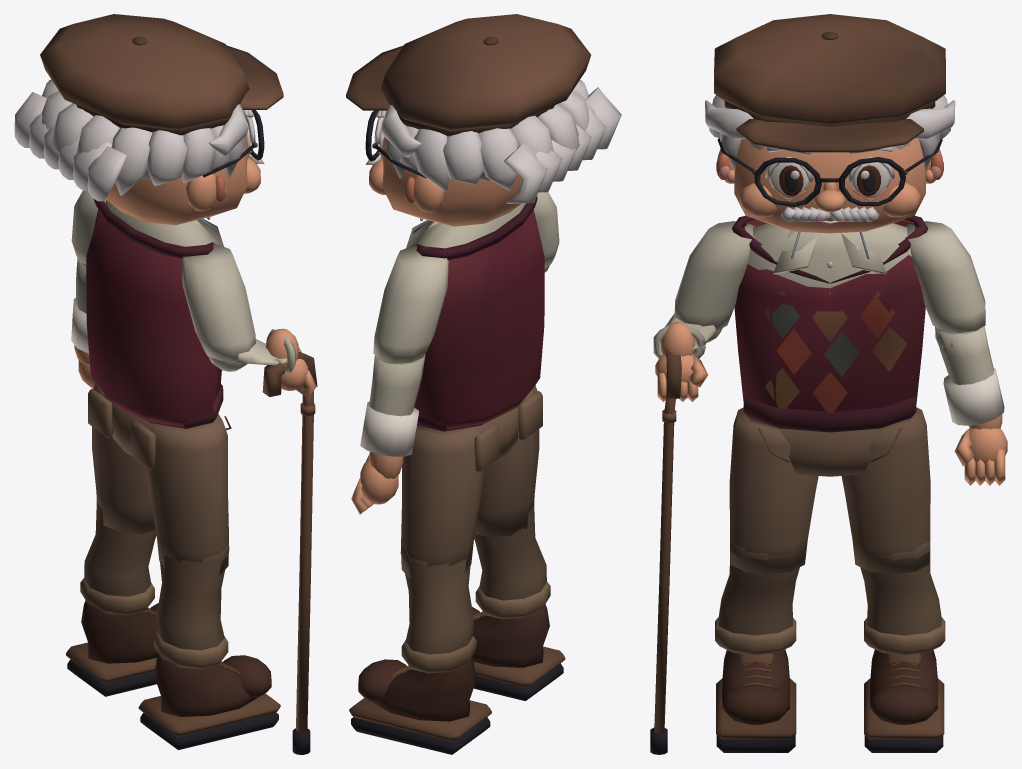
The model's file is npc.civilian-elderly.aftermath.glb.
3 views of the same model, side by side, from view 1: azimuth 30°, elevation 25°; view 2: azimuth 150°, elevation 25°; view 3: azimuth 270°, elevation 25° (orthographic).
Parts seen in each view (by area): view 1: head, torso, legR, footR, shinR, handR, footL, armR, shinL, legL, hip, foreArmR (+2 smaller); view 2: head, torso, legL, footL, shinL, footR, armL, shinR, foreArmL, legR, hip, handL (+1 smaller); view 3: head, torso, legL, legR, footR, footL, handR, shinL, shinR, armL, armR, foreArmL (+3 smaller).
Boxes of the visible parts, x1=… form: head: x1=14, y1=14, x2=283, y2=225; torso: x1=86, y1=199, x2=223, y2=428; legR: x1=145, y1=414, x2=228, y2=574; footR: x1=138, y1=653, x2=280, y2=749; shinR: x1=154, y1=543, x2=229, y2=669; handR: x1=262, y1=328, x2=317, y2=754; footL: x1=66, y1=600, x2=158, y2=696; armR: x1=182, y1=244, x2=255, y2=361; shinL: x1=80, y1=500, x2=156, y2=615; legL: x1=92, y1=383, x2=155, y2=533; hip: x1=88, y1=388, x2=231, y2=469; foreArmR: x1=208, y1=329, x2=295, y2=372; head: x1=346, y1=14, x2=621, y2=226; torso: x1=406, y1=196, x2=544, y2=431; legL: x1=401, y1=425, x2=484, y2=578; footL: x1=349, y1=658, x2=491, y2=754; shinL: x1=400, y1=547, x2=476, y2=673; footR: x1=472, y1=604, x2=565, y2=700; armL: x1=373, y1=246, x2=448, y2=363; shinR: x1=474, y1=504, x2=550, y2=619; foreArmL: x1=360, y1=354, x2=425, y2=456; legR: x1=475, y1=385, x2=539, y2=537; hip: x1=417, y1=391, x2=542, y2=472; handL: x1=351, y1=451, x2=403, y2=514; head: x1=705, y1=14, x2=955, y2=233; torso: x1=732, y1=215, x2=928, y2=432; legL: x1=841, y1=407, x2=930, y2=574; legR: x1=729, y1=407, x2=818, y2=574; footR: x1=716, y1=649, x2=796, y2=752; footL: x1=864, y1=649, x2=944, y2=752; handR: x1=650, y1=322, x2=707, y2=754; shinL: x1=860, y1=540, x2=945, y2=655; shinR: x1=715, y1=542, x2=799, y2=655; armL: x1=905, y1=221, x2=985, y2=332; armR: x1=674, y1=221, x2=754, y2=330; foreArmL: x1=935, y1=326, x2=1004, y2=425.
Size of the model in its own units: 0.5774 by 1.78 by 0.8475.
